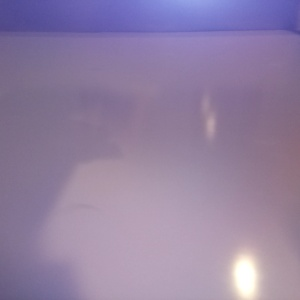alive_ball: (167, 12, 211, 54)
